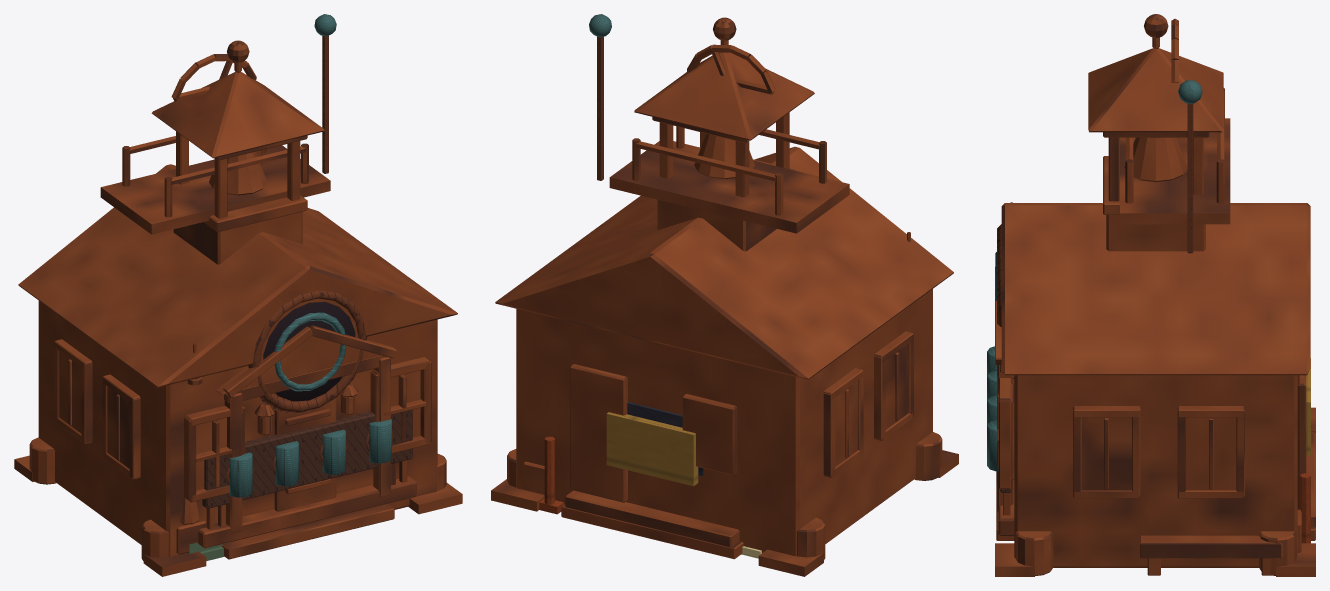
File: schoolhouse.e10.glb
3 renders of one model, left to right at view 1: azimuth 30°, elevation 25°; view 2: azimuth 150°, elevation 25°; view 3: azimuth 270°, elevation 25°, orthographic. The views are drawn at different scales.
Visible parts, largest first — view 1: SchoolhouseE10BridgeDeck; view 2: SchoolhouseE10BridgeDeck; view 3: SchoolhouseE10BridgeDeck.
Part boxes in pixels (<box>): SchoolhouseE10BridgeDeck: <box>14,14,462,576</box>; SchoolhouseE10BridgeDeck: <box>491,14,958,576</box>; SchoolhouseE10BridgeDeck: <box>987,14,1315,576</box>.
Bounding box in the file's own units: 3.96 × 5.6 × 3.46.
1 material, 1 textured.
